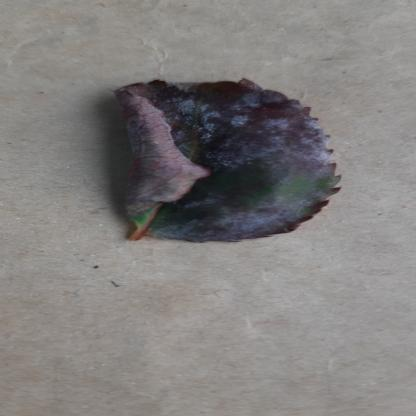powdery-mildew: (99, 77, 345, 247)
